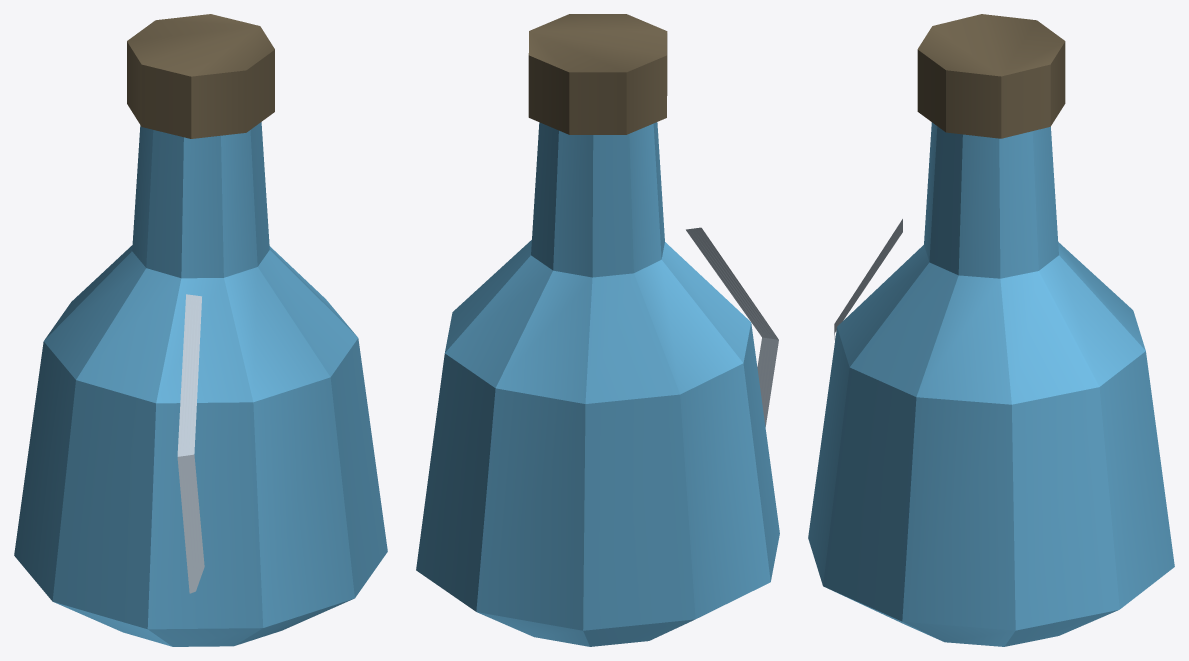
Rendered from 2044_PotionThrow_Throw_Projectile.fbx.
3 views of the same model, side by side, from view 1: azimuth 30°, elevation 25°; view 2: azimuth 150°, elevation 25°; view 3: azimuth 270°, elevation 25° (orthographic).
Visible parts, largest first — view 1: PART_CryoPotionGlassBody, PART_CryoPotionCork, PART_CryoPotionGlassGleam; view 2: PART_CryoPotionGlassBody, PART_CryoPotionCork, PART_CryoPotionGlassGleam; view 3: PART_CryoPotionGlassBody, PART_CryoPotionCork, PART_CryoPotionGlassGleam.
Part boxes in pixels (<box>): PART_CryoPotionGlassBody: <box>14,122,387,646</box>; PART_CryoPotionCork: <box>127,14,274,138</box>; PART_CryoPotionGlassGleam: <box>177,294,204,593</box>; PART_CryoPotionGlassBody: <box>416,122,779,646</box>; PART_CryoPotionCork: <box>528,14,667,134</box>; PART_CryoPotionGlassGleam: <box>686,227,778,426</box>; PART_CryoPotionGlassBody: <box>808,122,1174,646</box>; PART_CryoPotionCork: <box>917,14,1065,138</box>; PART_CryoPotionGlassGleam: <box>834,219,902,340</box>.
Size of the model in its own units: 37.68 by 63 by 37.36.
